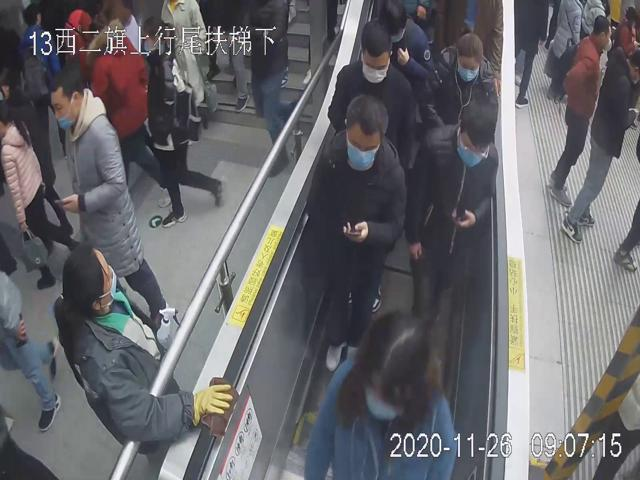person: (53, 242, 236, 453), (48, 62, 167, 332), (306, 89, 407, 376), (407, 102, 500, 330), (546, 9, 614, 211), (326, 21, 411, 144), (412, 27, 499, 145)
